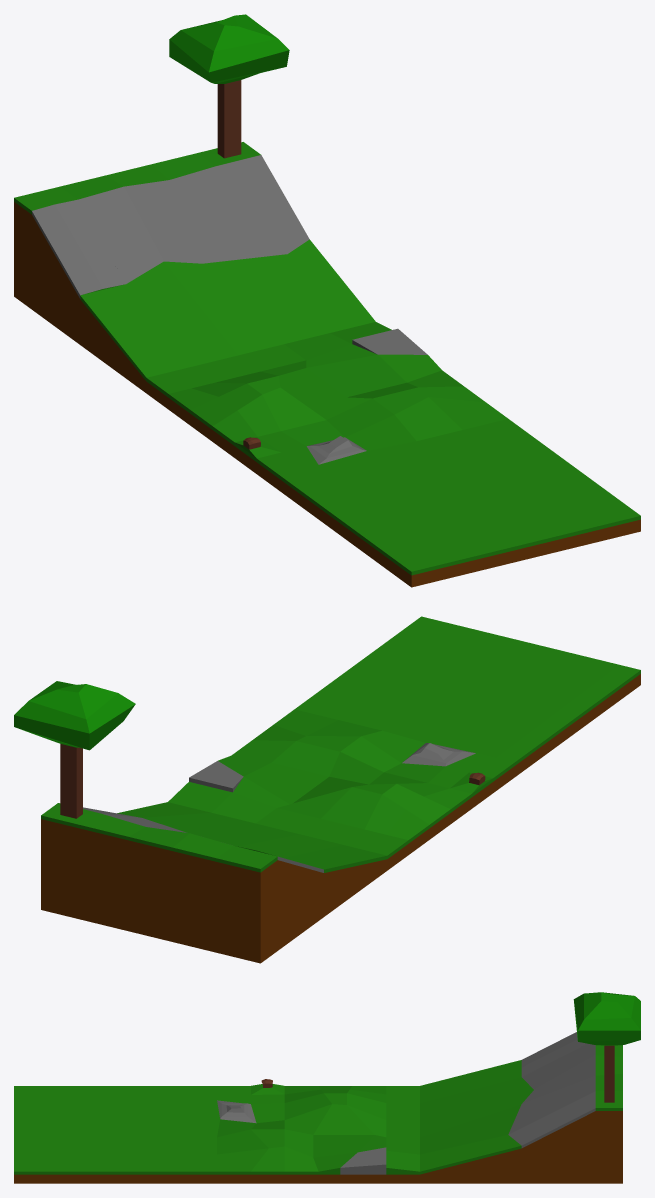
File: TerrainMineCraft2.fbx
The picture shows the model from 3 angles, top to bottom: view 1: azimuth 30°, elevation 25°; view 2: azimuth 150°, elevation 25°; view 3: azimuth 270°, elevation 25°; orthographic projection. The views are drawn at different scales.
Visible parts, largest first — view 1: Cube; view 2: Cube; view 3: Cube.
Part boxes in pixels (x1,y1,x2,y2): Cube: (14,14,640,587); Cube: (14,616,640,963); Cube: (14,992,640,1183).
Size of the model in its own units: 4290 by 3894 by 12351.
